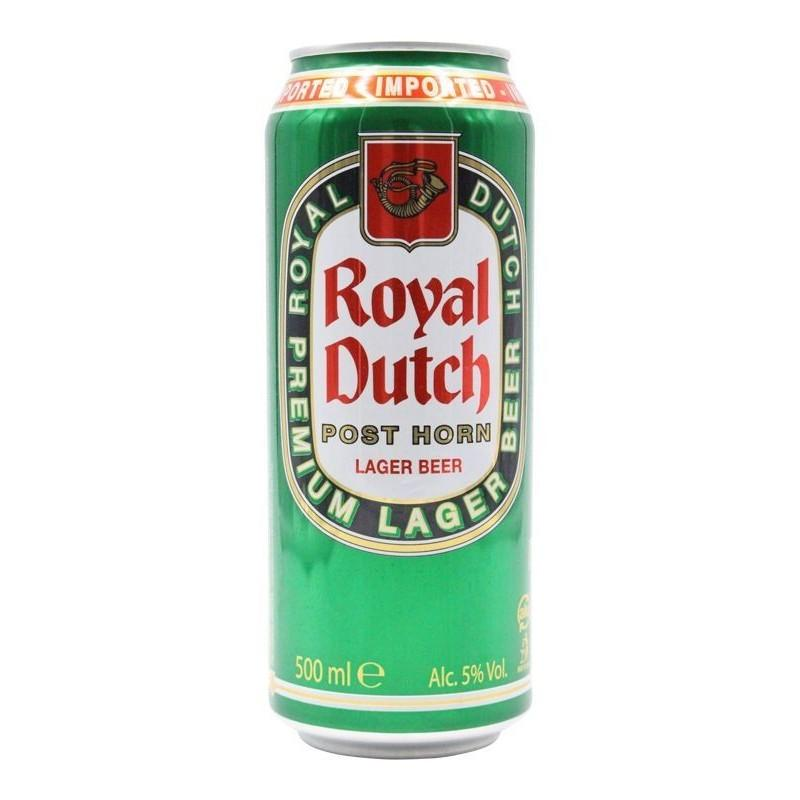metal: (266, 41, 534, 758)
